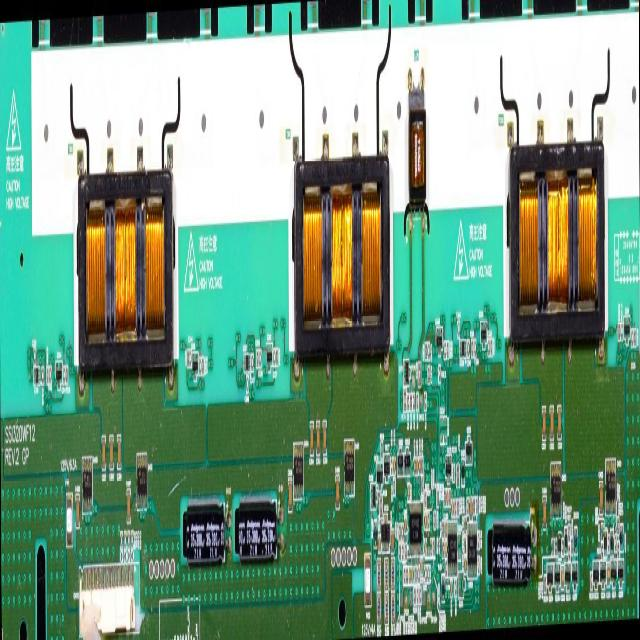Capacitor: (232, 489, 278, 566), (485, 514, 531, 590), (180, 496, 226, 569), (126, 485, 131, 522), (110, 434, 114, 472), (76, 492, 80, 529), (316, 421, 320, 457), (557, 404, 561, 440), (550, 406, 554, 442), (288, 477, 292, 511), (322, 421, 326, 454), (117, 436, 121, 469), (542, 407, 546, 440), (542, 497, 546, 530), (102, 436, 105, 472), (390, 528, 394, 554), (310, 422, 313, 456), (336, 474, 339, 508), (599, 481, 602, 514), (469, 496, 472, 520), (561, 566, 564, 590), (607, 564, 610, 586), (487, 338, 490, 358), (473, 338, 476, 358), (424, 540, 427, 560), (120, 531, 123, 550), (404, 516, 407, 535), (127, 532, 130, 550), (446, 490, 449, 506), (131, 532, 134, 548), (451, 500, 454, 515), (407, 481, 409, 503), (621, 322, 623, 342), (424, 510, 426, 530), (189, 348, 191, 367), (259, 348, 261, 367), (467, 340, 469, 359), (631, 329, 633, 348), (450, 578, 452, 597), (393, 457, 395, 475), (418, 457, 420, 475), (416, 457, 418, 475), (124, 531, 126, 549), (378, 535, 380, 553), (411, 568, 413, 586), (458, 320, 460, 337), (199, 358, 201, 375), (251, 354, 253, 371), (273, 350, 275, 366), (246, 375, 248, 391), (413, 458, 415, 474), (601, 523, 603, 539), (464, 558, 466, 574), (445, 540, 446, 560), (445, 520, 446, 539), (409, 565, 410, 582), (63, 367, 64, 383), (421, 559, 422, 574)
Connector: (78, 562, 135, 639)
IC: (446, 519, 456, 577)
Resistor Network: (384, 558, 389, 589), (391, 559, 395, 592), (391, 594, 395, 627), (377, 559, 380, 592), (385, 593, 388, 624), (418, 362, 421, 387), (403, 386, 406, 411), (456, 464, 459, 487), (378, 594, 380, 625), (65, 364, 68, 384), (614, 532, 617, 552), (490, 336, 493, 355), (452, 465, 455, 483), (554, 539, 557, 557), (543, 576, 546, 594), (380, 494, 382, 518), (436, 488, 438, 510), (276, 347, 278, 367), (471, 338, 473, 358), (438, 364, 440, 384), (424, 392, 426, 412), (432, 536, 434, 556), (570, 536, 572, 556), (477, 556, 479, 576), (445, 560, 447, 580), (425, 564, 427, 584), (256, 351, 258, 370), (634, 329, 636, 348), (412, 391, 414, 410), (416, 391, 418, 410), (473, 496, 475, 515), (427, 512, 429, 531), (568, 523, 570, 542), (404, 543, 406, 562), (561, 539, 563, 558), (601, 542, 603, 561), (454, 578, 456, 597), (416, 586, 418, 605), (424, 489, 426, 507), (476, 496, 478, 514), (477, 530, 479, 548), (442, 540, 444, 558), (402, 543, 404, 561), (617, 540, 619, 558), (403, 566, 405, 584), (418, 566, 420, 584), (414, 586, 416, 604), (618, 323, 620, 340), (434, 511, 436, 528), (616, 518, 618, 535), (428, 565, 430, 582), (590, 573, 592, 590), (419, 588, 421, 605), (186, 350, 188, 366), (380, 442, 382, 458), (421, 457, 423, 473), (398, 524, 400, 540), (464, 536, 466, 552), (568, 544, 570, 560), (406, 568, 408, 584), (414, 566, 416, 582), (393, 478, 395, 493), (402, 526, 404, 540), (407, 397, 409, 410), (410, 392, 411, 412), (444, 488, 445, 507), (442, 520, 443, 539), (391, 457, 392, 475), (449, 488, 450, 506), (467, 497, 468, 515), (457, 498, 458, 516), (608, 535, 609, 553), (399, 545, 400, 562), (428, 366, 429, 382), (421, 476, 422, 492), (454, 499, 455, 515), (202, 357, 203, 372)
Transistor: (82, 454, 93, 514), (136, 453, 147, 512), (293, 442, 303, 503), (344, 441, 354, 497), (550, 462, 560, 518), (606, 462, 616, 515)
iC: (467, 520, 477, 578)
